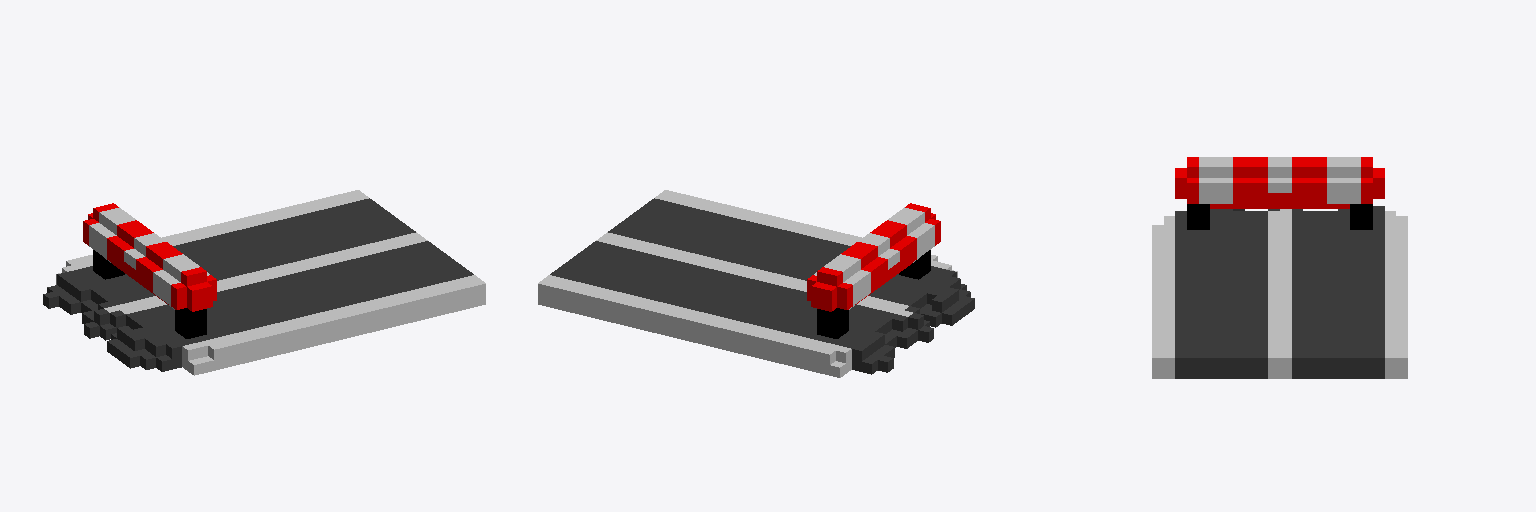
The picture shows the model from 3 angles: view 1: azimuth 30°, elevation 25°; view 2: azimuth 150°, elevation 25°; view 3: azimuth 270°, elevation 25°; orthographic projection.
Visible parts, largest first — view 1: object 1; view 2: object 1; view 3: object 1.
Part boxes in pixels (x1,y1,x2,y2): object 1: (43, 190, 485, 375); object 1: (538, 190, 974, 377); object 1: (1152, 157, 1407, 378).
Bounding box in the file's own units: 3.3 × 0.8 × 2.2.
Materials: 1 (1 with a texture image).